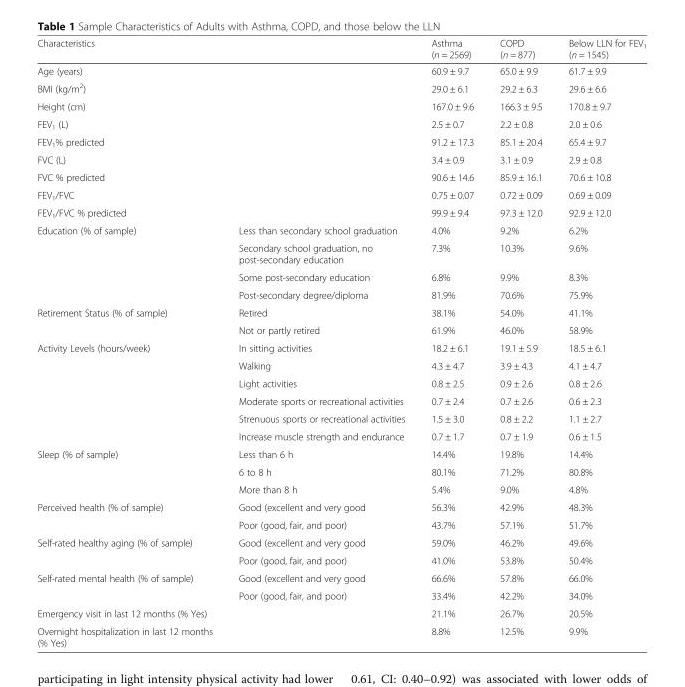table: (36, 37, 645, 647)
table column: (224, 37, 417, 647), (36, 37, 224, 647), (554, 37, 645, 647), (417, 37, 486, 647), (486, 37, 554, 647)
table column header: (36, 37, 645, 78)
table row: (36, 238, 645, 268), (36, 37, 645, 62), (36, 622, 645, 647), (36, 78, 645, 97), (36, 97, 645, 115), (36, 115, 645, 133), (36, 150, 645, 168), (36, 185, 645, 203), (36, 203, 645, 221), (36, 285, 645, 303), (36, 303, 645, 321), (36, 338, 645, 356), (36, 356, 645, 374), (36, 391, 645, 409), (36, 409, 645, 427), (36, 444, 645, 462), (36, 462, 645, 480), (36, 480, 645, 498), (36, 515, 645, 533), (36, 533, 645, 551), (36, 568, 645, 586), (36, 586, 645, 604), (36, 604, 645, 622), (36, 133, 645, 150), (36, 168, 645, 185), (36, 221, 645, 238), (36, 268, 645, 285), (36, 321, 645, 338), (36, 374, 645, 391), (36, 427, 645, 444), (36, 498, 645, 515), (36, 551, 645, 568), (36, 62, 645, 78)
table spanning cell: (36, 338, 224, 444), (36, 221, 224, 303), (36, 444, 224, 498), (36, 37, 417, 62), (36, 568, 224, 604), (36, 303, 224, 338), (36, 498, 224, 533), (36, 533, 224, 568), (554, 37, 645, 78), (417, 37, 486, 78), (486, 37, 554, 78)
